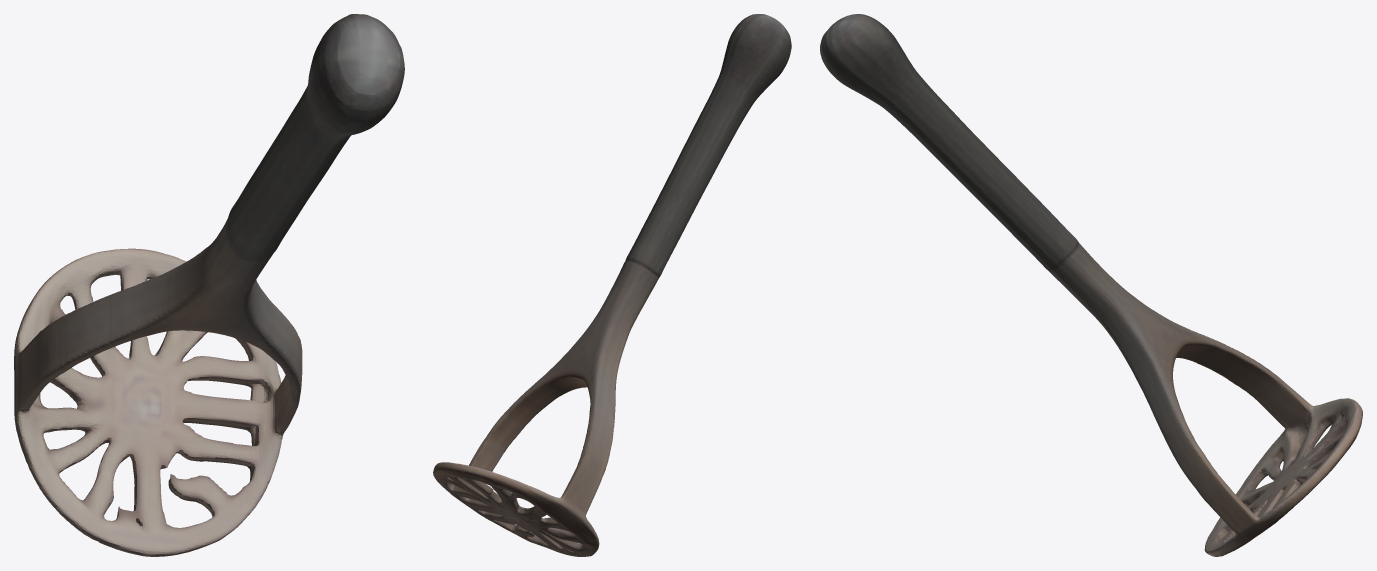
Rendered from frame_0031_source_000031_object.glb.
The picture shows the model from 3 angles, left to right: view 1: azimuth 30°, elevation 25°; view 2: azimuth 150°, elevation 25°; view 3: azimuth 270°, elevation 25°; orthographic projection. The views are drawn at different scales.
Parts seen in each view (by area): view 1: world; view 2: world; view 3: world.
Part boxes in pixels (x1,y1,x2,y2): world: (14, 14, 404, 556); world: (433, 14, 791, 556); world: (820, 14, 1362, 556).
Bounding box in the file's own units: 0.0803 × 0.2125 × 0.2081.
